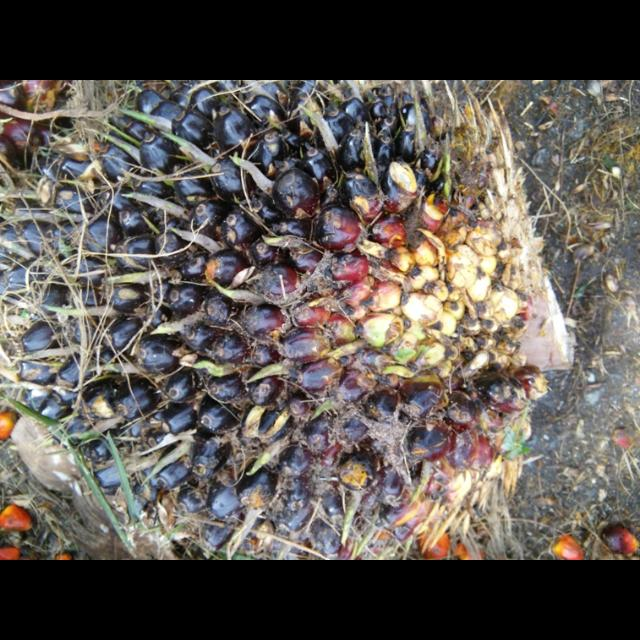Unripe: (0, 80, 575, 559)
